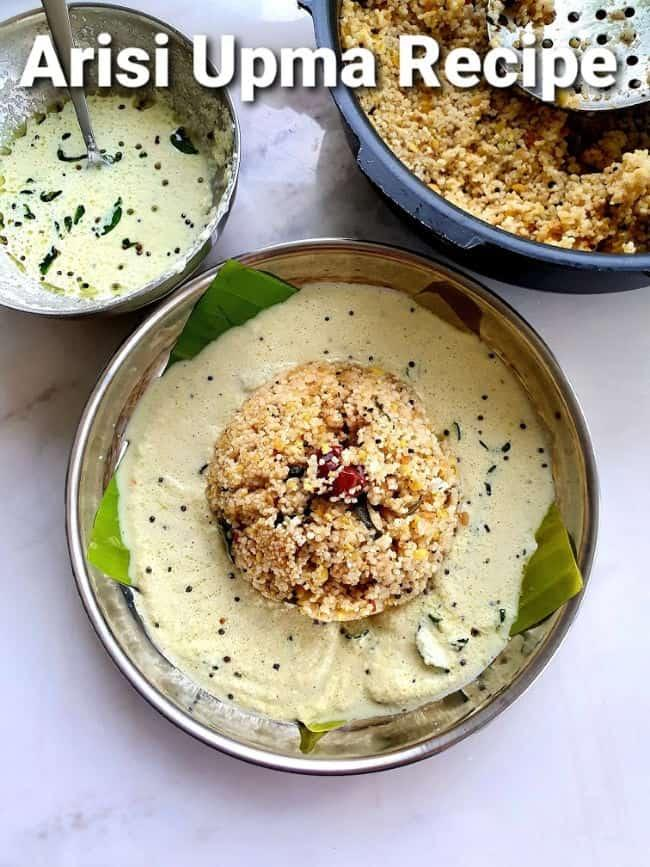coconut chutney: (0, 16, 196, 321)
upma: (216, 361, 469, 630)
